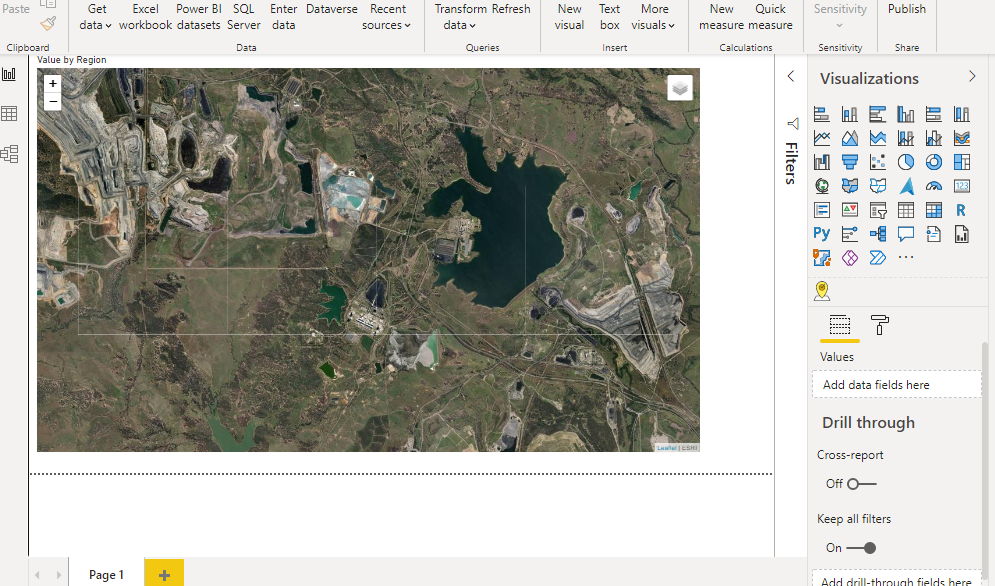

The page's visual inventory and layout, read from the dashboard file:
{"tool":"powerbi","page":{"name":"Page 1","canvas":[1280,720],"ordinal":0},"visuals":[{"type":"mapcv4pbi","fields":{"category":["Sheet1.Region"],"measure":["Sum(Sheet1.Value)"]},"box":[9.4,0,774.2,530.3],"z":0}]}

Visuals, with their boxes on the page's 1280x720 design canvas (x1, y1, x2, y2). These are canvas units, not pixel positions in the 995x586 screenshot, which may show the page scaled, cropped or inside an application window:
mapcv4pbi - Sheet1.Region x Sum(Sheet1.Value): bbox=(9, 0, 784, 530)
